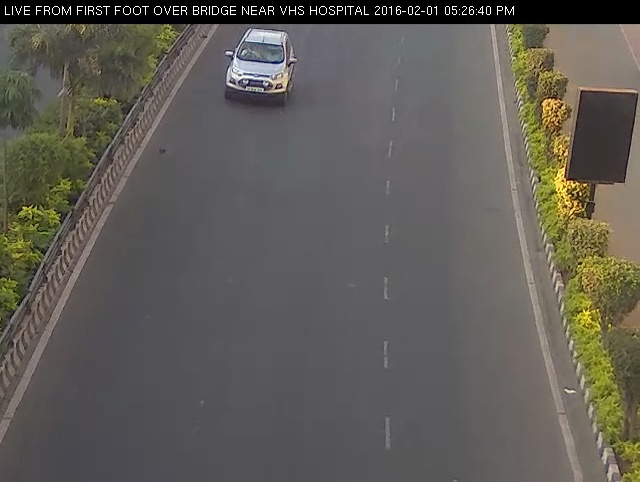Car: (217, 24, 301, 113)
